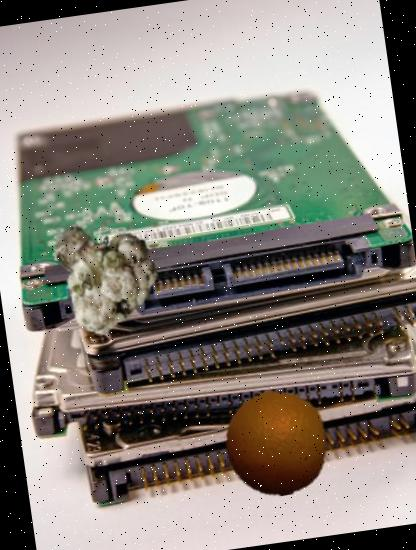Cauliflower: (37, 209, 162, 335)
Orange: (216, 384, 336, 504)
